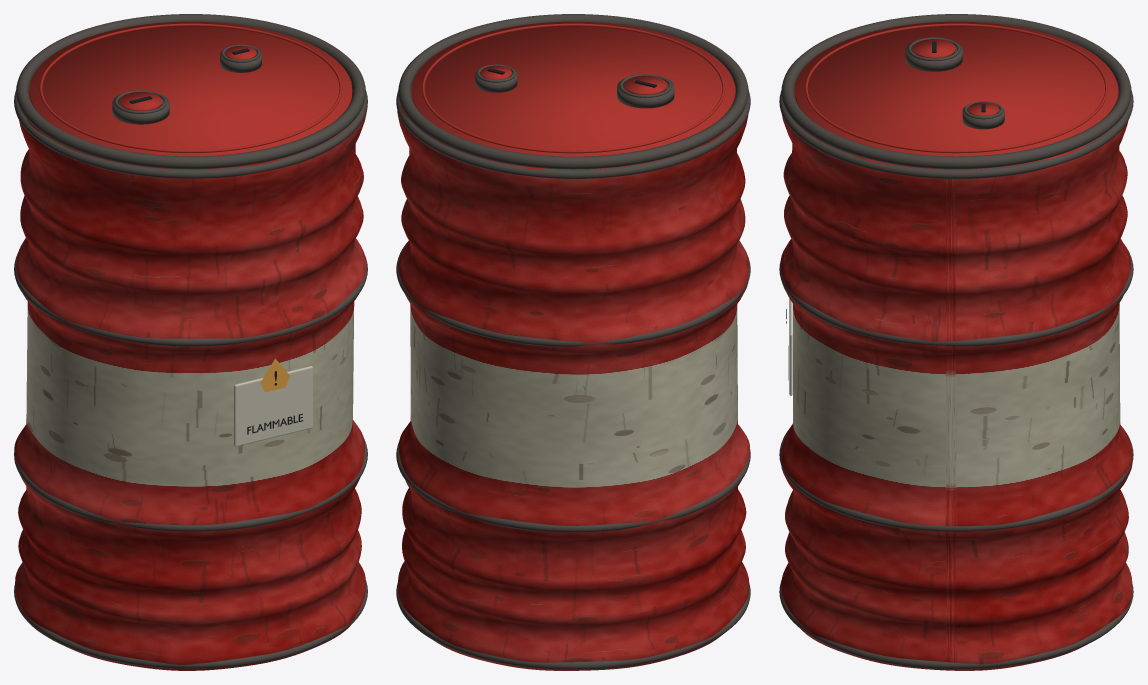
Rendered from barrel.glb.
3 views of the same model, side by side, from view 1: azimuth 30°, elevation 25°; view 2: azimuth 150°, elevation 25°; view 3: azimuth 270°, elevation 25° (orthographic).
Parts seen in each view (by area): view 1: Barrel, Cap, CapOuterRolledLip, BarrelWarningPlate, Ring.003, Ring, Ring.002, Ring.001, CapPressedSeam, CapLargeBung, CapLargeBungInset, BarrelHazardDiamond; view 2: Barrel, Cap, CapOuterRolledLip, Ring.003, Ring, Ring.002, Ring.001, CapPressedSeam, CapLargeBung, CapLargeBungInset; view 3: Barrel, Cap, CapOuterRolledLip, Ring.003, Ring, Ring.001, Ring.002, CapPressedSeam, CapLargeBung, CapLargeBungInset.
Boxes of the visible parts, x1,y1,x2,y2 form: Barrel: [14, 83, 367, 670]; Cap: [29, 21, 352, 156]; CapOuterRolledLip: [16, 14, 365, 169]; BarrelWarningPlate: [234, 366, 312, 446]; Ring.003: [14, 91, 367, 178]; Ring: [14, 580, 367, 668]; Ring.002: [14, 253, 367, 346]; Ring.001: [14, 438, 367, 531]; CapPressedSeam: [39, 23, 342, 152]; CapLargeBung: [112, 94, 169, 124]; CapLargeBungInset: [119, 92, 161, 110]; BarrelHazardDiamond: [260, 358, 289, 392]; Barrel: [397, 83, 749, 670]; Cap: [412, 21, 734, 156]; CapOuterRolledLip: [398, 14, 748, 169]; Ring.003: [396, 91, 750, 178]; Ring: [396, 582, 750, 669]; Ring.002: [396, 242, 750, 346]; Ring.001: [396, 442, 750, 532]; CapPressedSeam: [422, 23, 724, 153]; CapLargeBung: [617, 78, 674, 108]; CapLargeBungInset: [624, 75, 666, 94]; Barrel: [780, 83, 1132, 670]; Cap: [795, 21, 1117, 156]; CapOuterRolledLip: [781, 14, 1131, 169]; Ring.003: [779, 90, 1133, 179]; Ring: [779, 580, 1133, 669]; Ring.001: [779, 428, 1133, 531]; Ring.002: [779, 244, 1133, 346]; CapPressedSeam: [805, 23, 1107, 153]; CapLargeBung: [905, 41, 962, 71]; CapLargeBungInset: [913, 39, 955, 58].
Bounding box in the file's own units: 0.878 × 1.44 × 0.878.
Materials: 6 (1 with a texture image).
